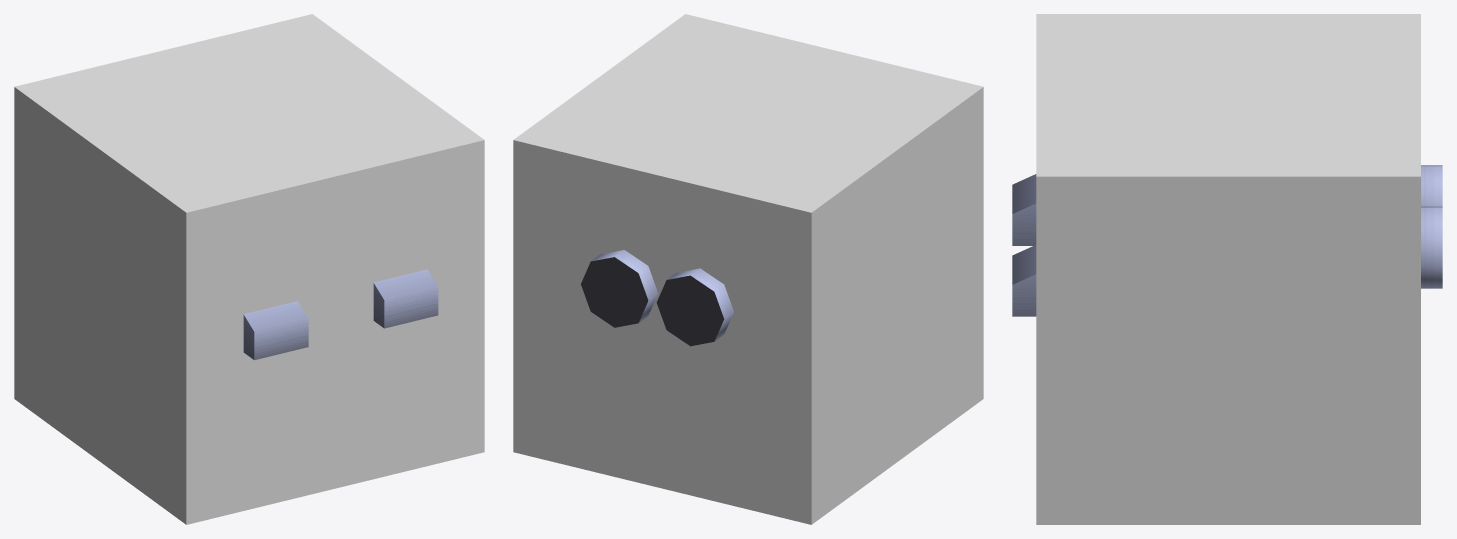
The model's file is gun_turret.glb.
3 renders of one model, left to right at view 1: azimuth 30°, elevation 25°; view 2: azimuth 150°, elevation 25°; view 3: azimuth 270°, elevation 25°, orthographic. The views are drawn at different scales.
Parts seen in each view (by area): view 1: COL_BOX_01, barrel; view 2: COL_BOX_01, barrel; view 3: COL_BOX_01, barrel.
Part boxes in pixels (bbox=[...]): COL_BOX_01: bbox=[14, 14, 484, 524]; barrel: bbox=[243, 269, 438, 360]; COL_BOX_01: bbox=[513, 14, 983, 524]; barrel: bbox=[581, 250, 733, 346]; COL_BOX_01: bbox=[1036, 14, 1420, 524]; barrel: bbox=[1012, 165, 1442, 316].
Bounding box in the file's own units: 1.1 × 1.1 × 1.23.
1 material, 1 textured.
